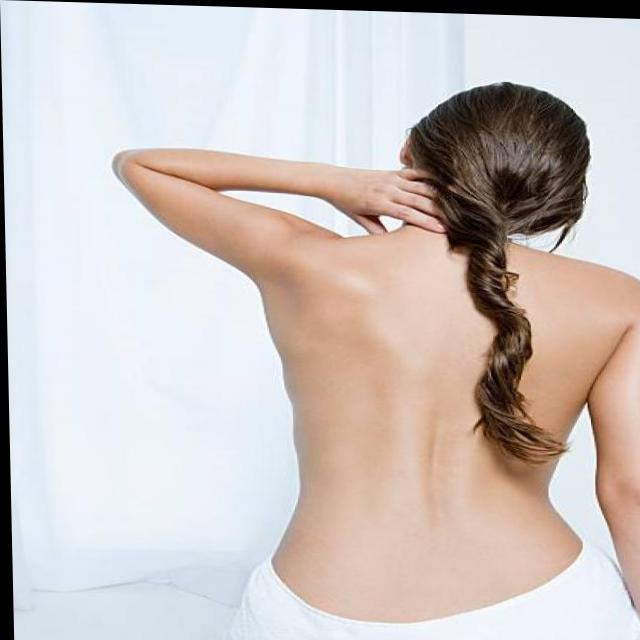no helmet: (396, 76, 597, 225)
